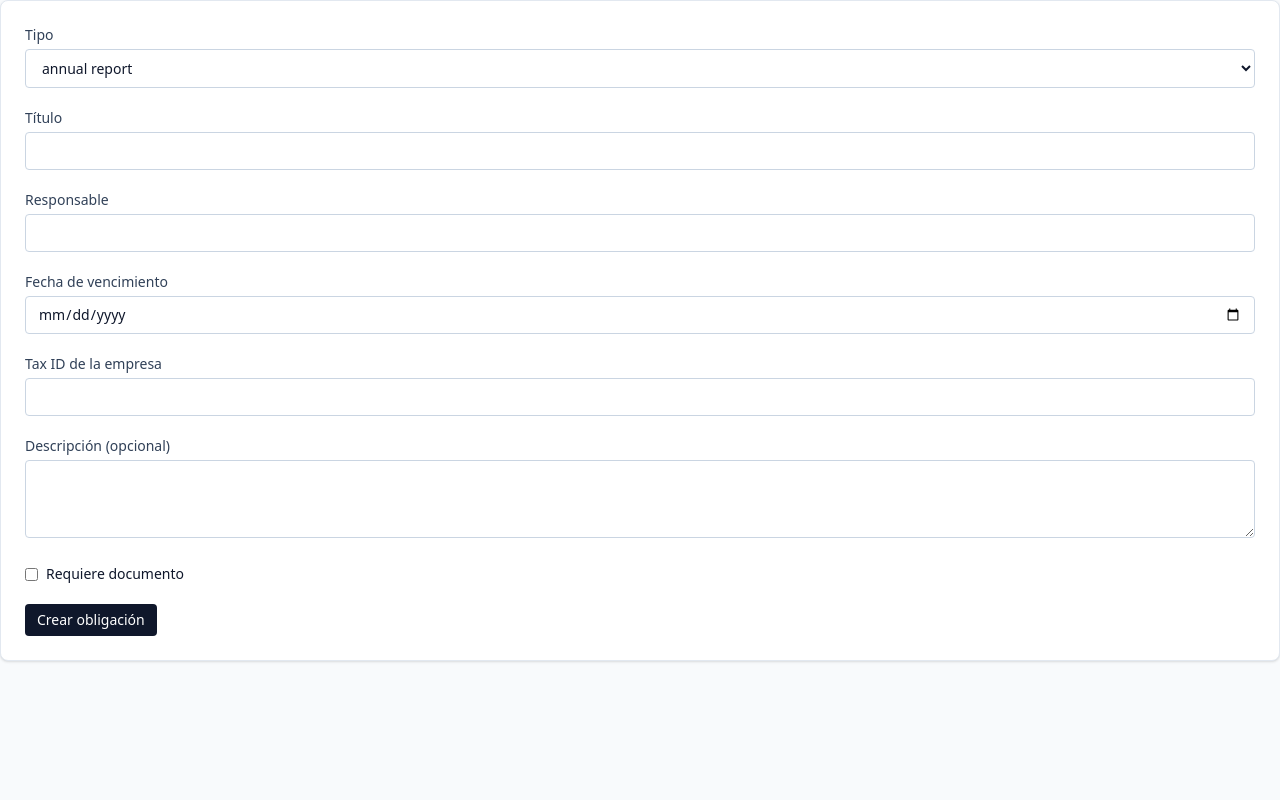
Scenario: ObligationForm › shows the API error returned by the action
In the field labelled "Título": (640,151) [25,132,1255,170], type "Annual report 2026"
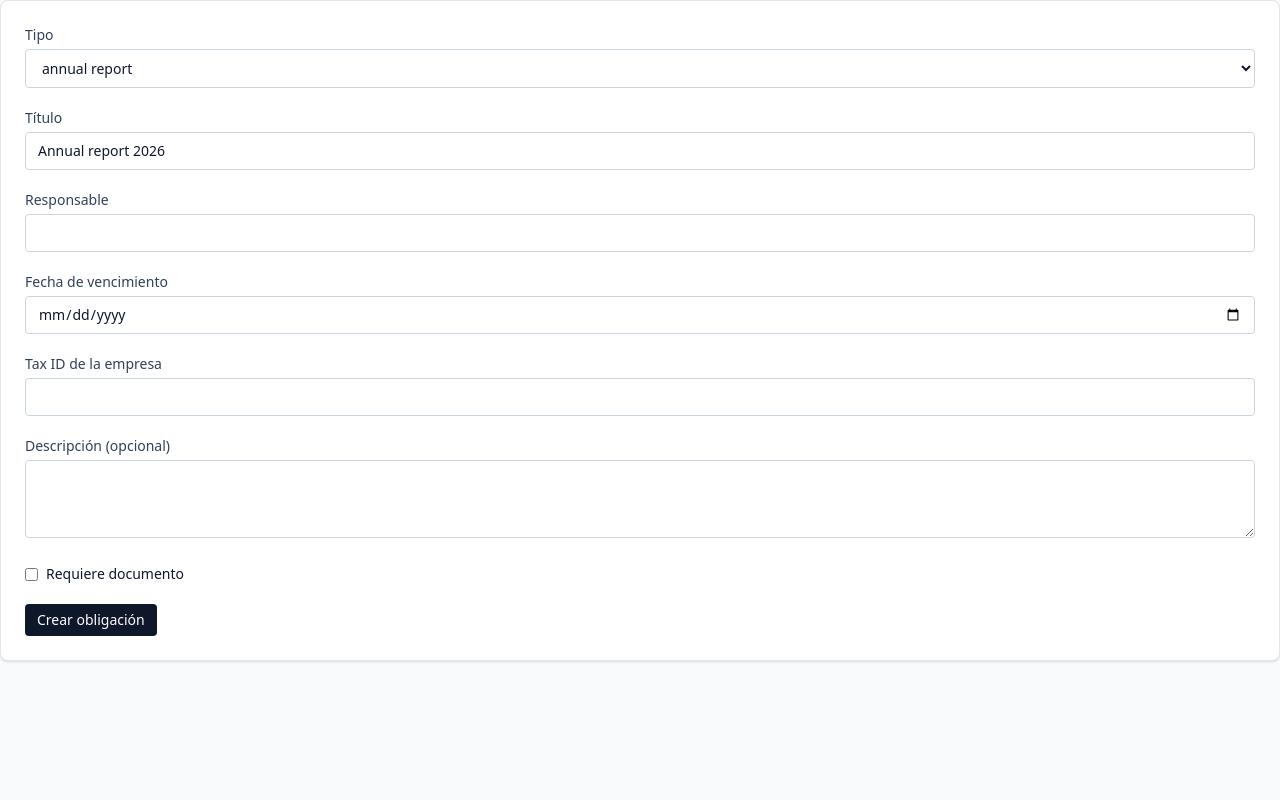
In the field labelled "Responsable": (640,233) [25,214,1255,252], type "Ana"
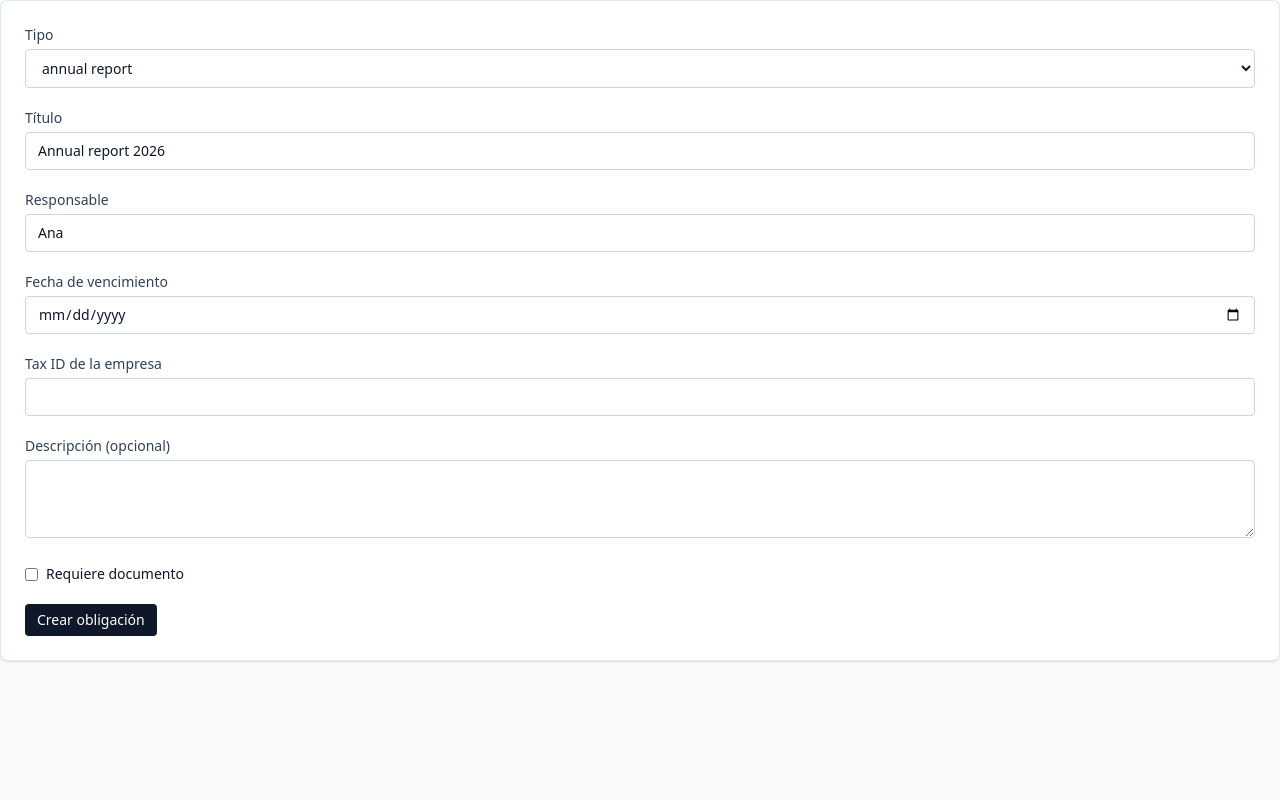
In the date field labelled "Fecha de vencimiento": (640,315) [25,296,1255,334], type "2026-12-01"
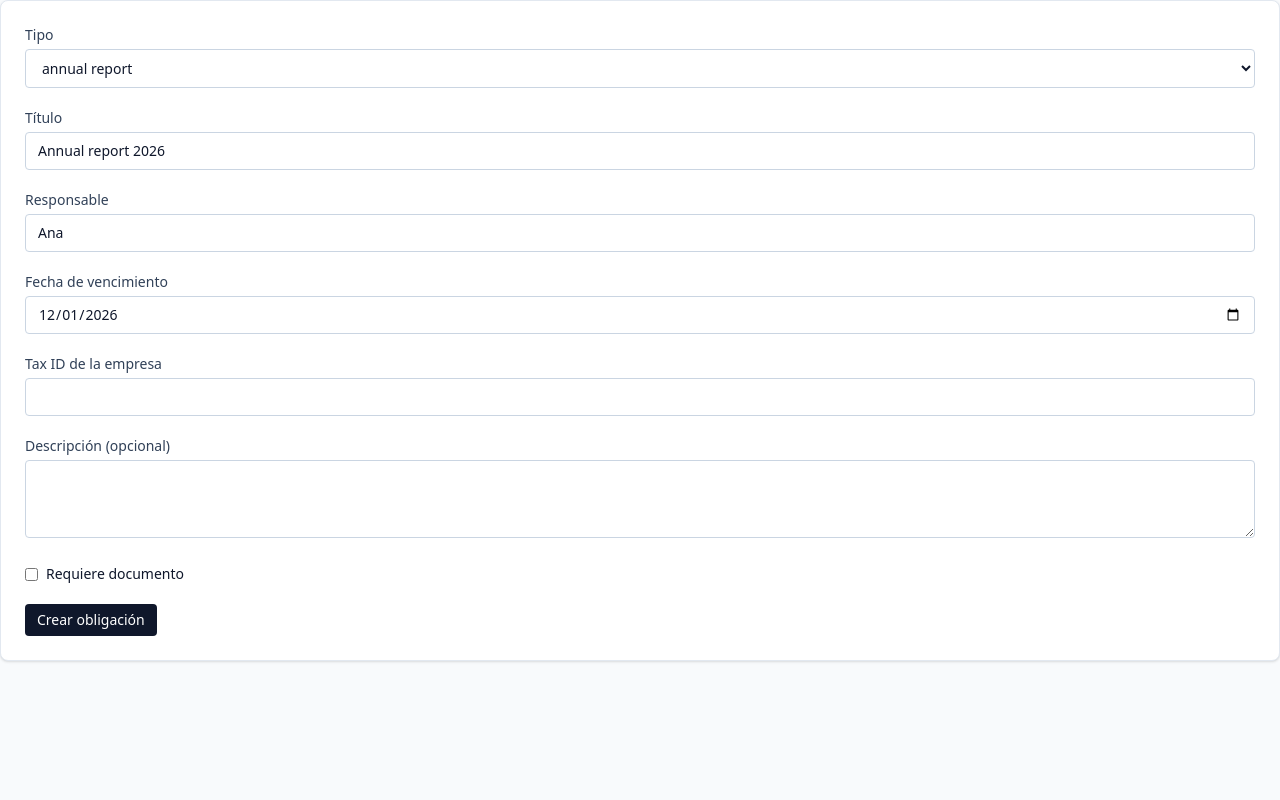
In the field labelled "Tax ID de la empresa": (640,397) [25,378,1255,416], type "123456789"
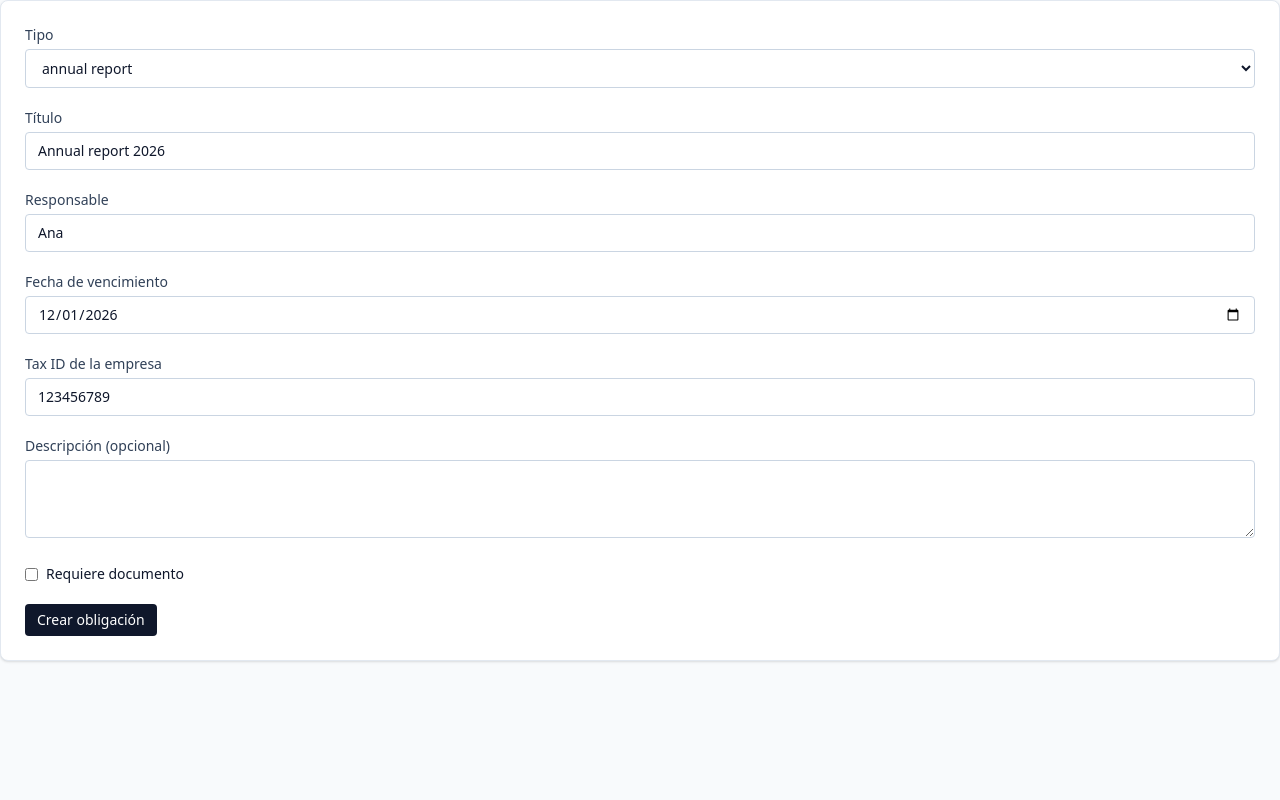
Click the button "Crear obligación": (91,620) [25,604,157,636]
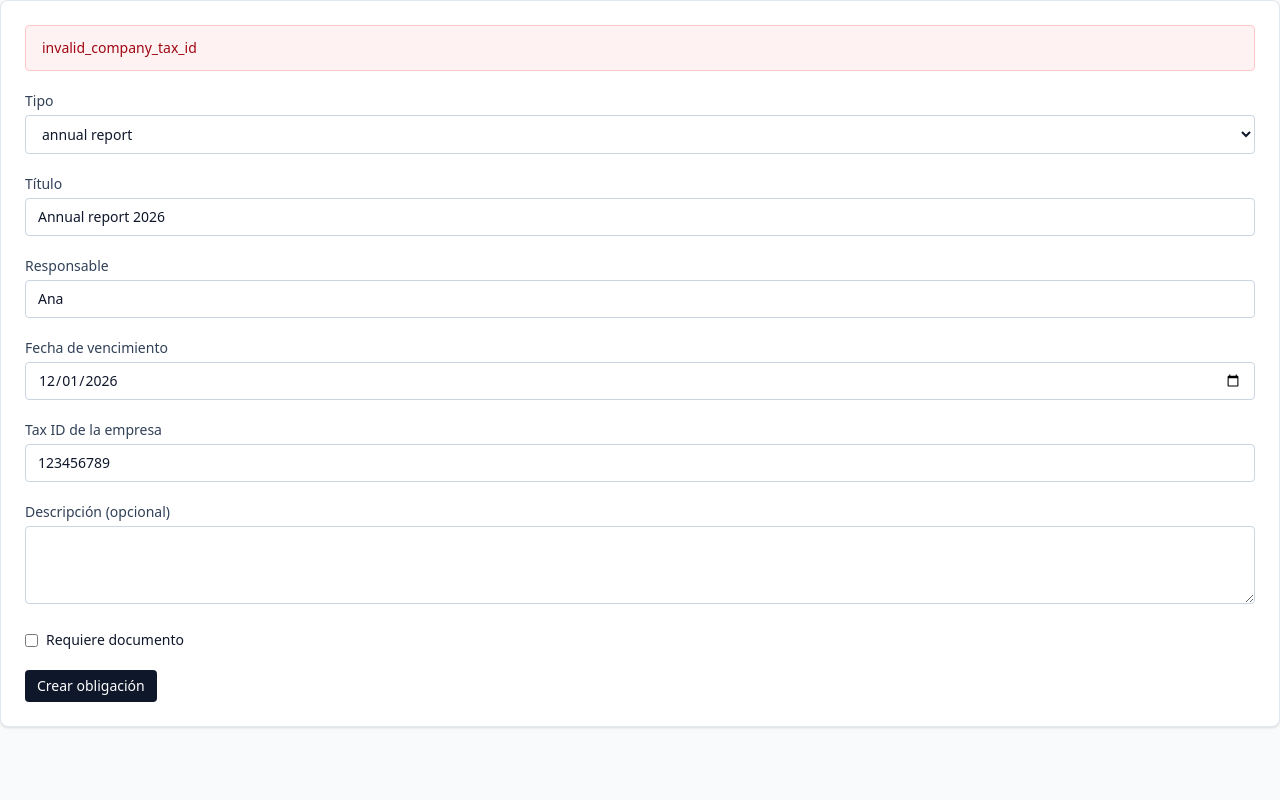
Expected: the text "invalid_company_tax_id" is shown, [25,25,1255,71]
